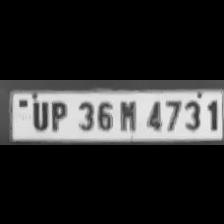1: (203, 97, 221, 131)
3: (72, 97, 94, 130), (181, 97, 201, 131)
4: (142, 97, 164, 131)
6: (94, 97, 114, 130)
7: (162, 97, 180, 131)
M: (116, 96, 140, 132)
P: (47, 97, 69, 130)
U: (28, 98, 50, 130)
